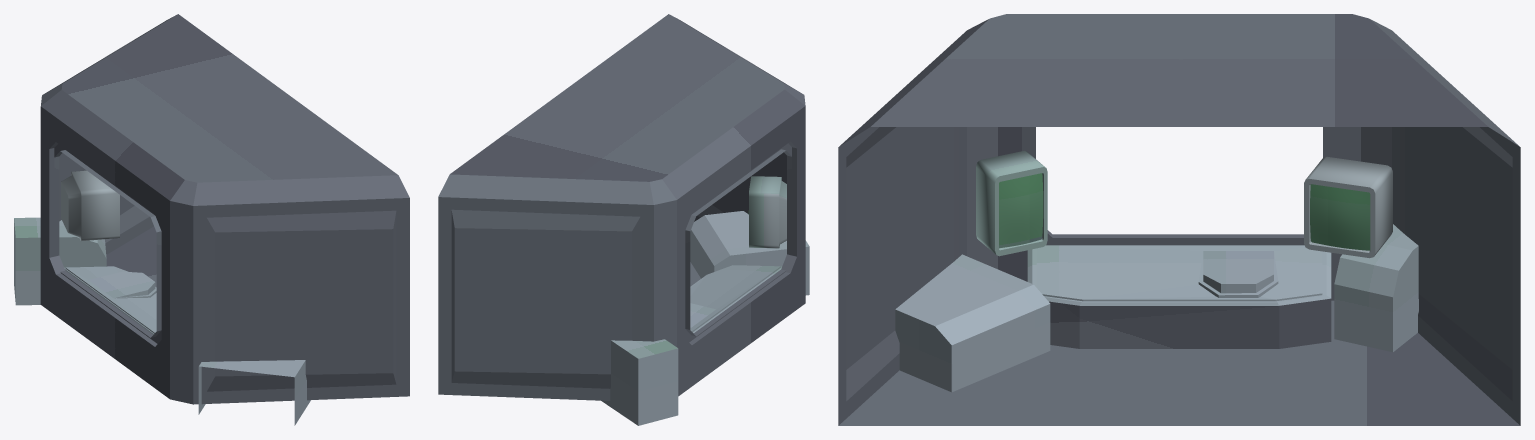
The model's file is RoomTest.glb.
3 renders of one model, left to right at view 1: azimuth 30°, elevation 25°; view 2: azimuth 150°, elevation 25°; view 3: azimuth 270°, elevation 25°, orthographic. The views are drawn at different scales.
Visible parts, largest first — view 1: Walls, ConsoleRight, Terminal, MiddleConsole, ConsoleLeft; view 2: Walls, ConsoleRight, ConsoleLeft, MiddleConsole, Terminal.001; view 3: Walls, MiddleConsole, ConsoleLeft, ConsoleRight, Terminal, Terminal.001, TerminalScreen, TerminalScreen.001.
Part boxes in pixels (x1,y1,x2,y2): Walls: [40, 14, 409, 404]; ConsoleRight: [14, 217, 106, 305]; Terminal: [61, 170, 119, 241]; MiddleConsole: [64, 266, 156, 334]; ConsoleLeft: [198, 360, 310, 425]; Walls: [438, 14, 805, 400]; ConsoleRight: [601, 339, 678, 425]; ConsoleLeft: [690, 211, 809, 295]; MiddleConsole: [690, 265, 781, 333]; Terminal.001: [749, 176, 786, 248]; Walls: [838, 14, 1520, 425]; MiddleConsole: [1027, 245, 1331, 348]; ConsoleLeft: [895, 254, 1050, 392]; ConsoleRight: [1334, 224, 1418, 352]; Terminal: [1304, 156, 1392, 258]; Terminal.001: [976, 150, 1047, 256]; TerminalScreen: [1310, 184, 1370, 250]; TerminalScreen.001: [999, 173, 1043, 248].
Bounding box in the file's own units: 9.01 × 9.63 × 19.32.
Materials: 1 (1 with a texture image).
